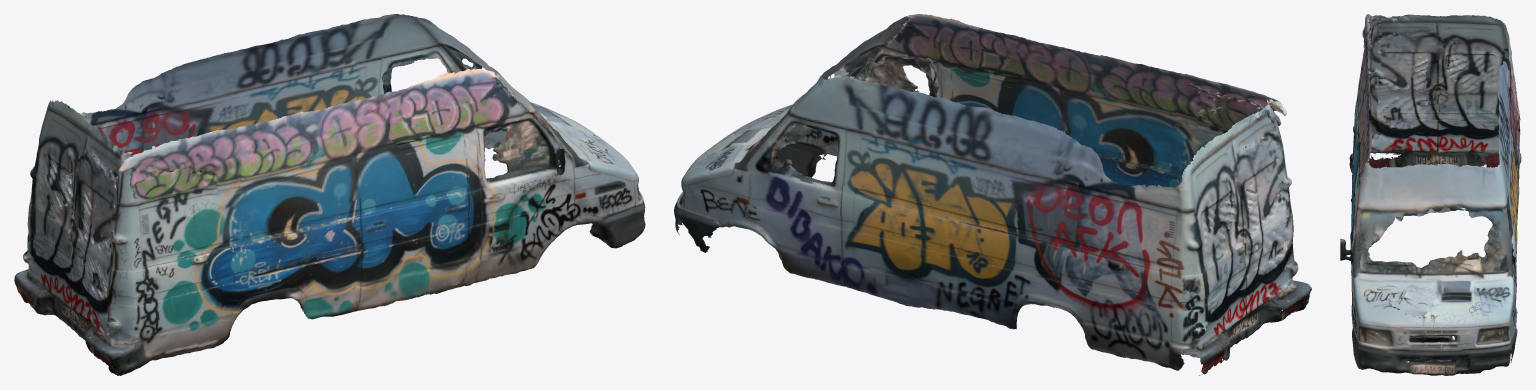
Rendered from van-013.glb.
3 views of the same model, side by side, from view 1: azimuth 30°, elevation 25°; view 2: azimuth 150°, elevation 25°; view 3: azimuth 270°, elevation 25° (orthographic). The views are drawn at different scales.
Visible parts, largest first — view 1: No__13; view 2: No__13; view 3: No__13.
Part boxes in pixels (left/top/right/bottom): No__13: left=14, top=14, right=645, bottom=375; No__13: left=674, top=14, right=1311, bottom=375; No__13: left=1340, top=14, right=1521, bottom=375.
Bounding box in the file's own units: 5.99 × 2.23 × 2.13.
1 material, 1 textured.
